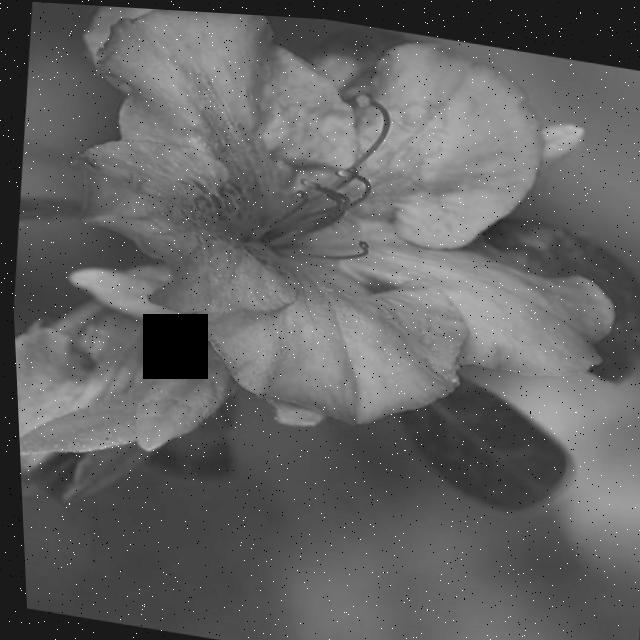azalea: (64, 3, 640, 451), (8, 230, 236, 558)
